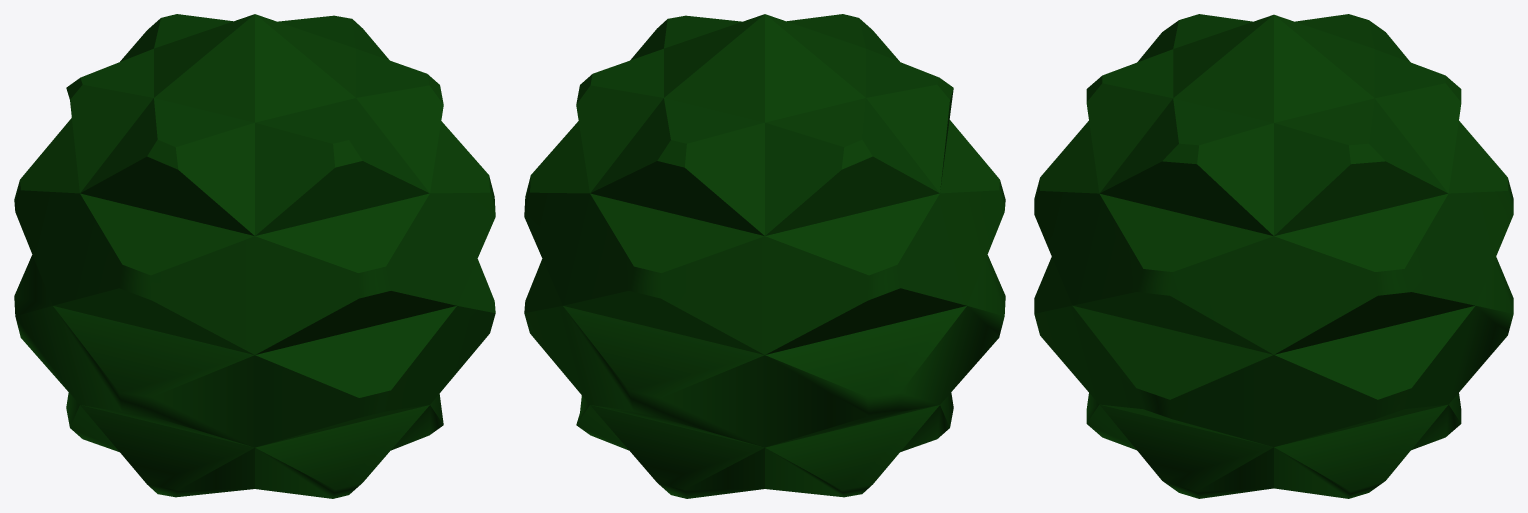
Rendered from Bush1.fbx.
3 views of the same model, side by side, from view 1: azimuth 30°, elevation 25°; view 2: azimuth 150°, elevation 25°; view 3: azimuth 270°, elevation 25° (orthographic).
Visible parts, largest first — view 1: pSphere1; view 2: pSphere1; view 3: pSphere1.
Part boxes in pixels (x1,y1,x2,y2): pSphere1: [14, 14, 495, 498]; pSphere1: [524, 14, 1005, 498]; pSphere1: [1034, 14, 1513, 498].
Bounding box in the file's own units: 2 × 2.01 × 2.06.
